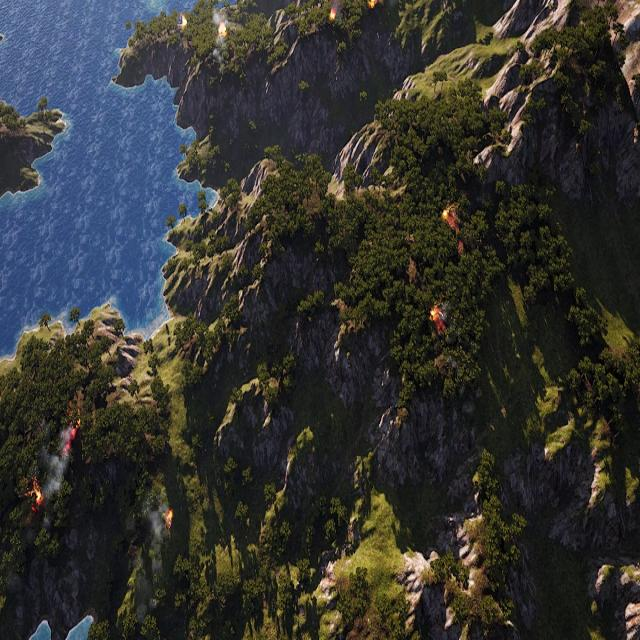fire: (65, 401, 84, 456), (442, 206, 461, 232), (428, 304, 445, 333), (30, 483, 43, 509), (163, 508, 175, 530), (216, 21, 228, 37), (178, 16, 190, 29), (366, 0, 378, 7), (330, 8, 336, 20)
smoke: (134, 501, 172, 624), (42, 422, 72, 503), (210, 3, 232, 64)
